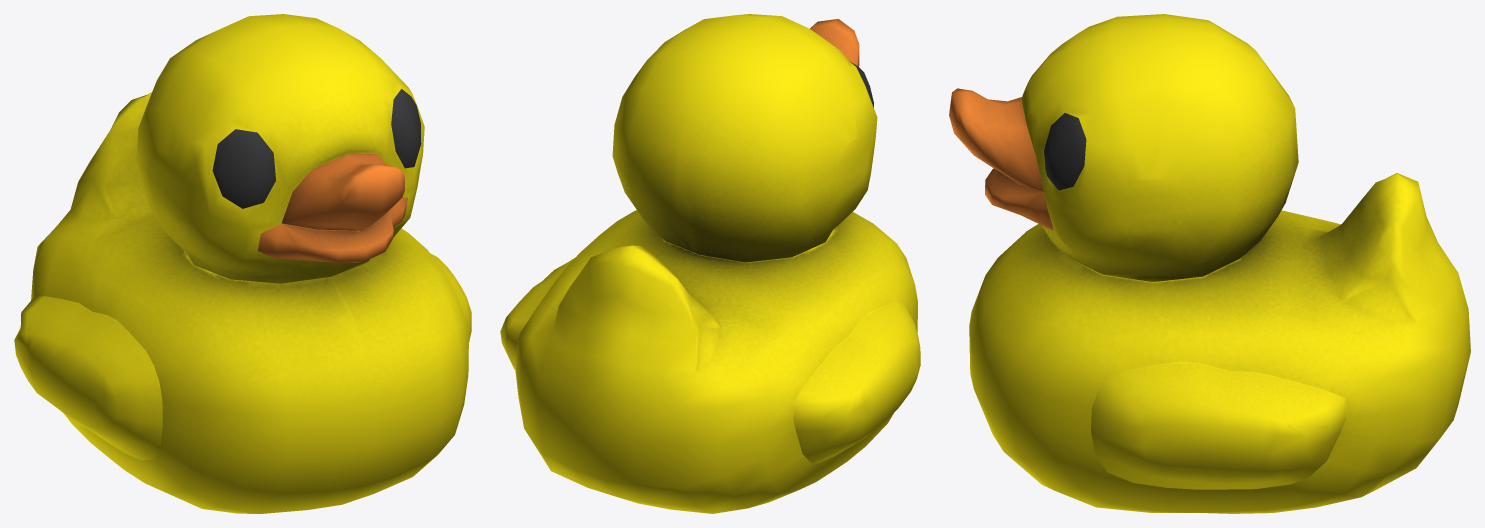
Rendered from DuckRubber.fbx.
The picture shows the model from 3 angles, left to right: view 1: azimuth 30°, elevation 25°; view 2: azimuth 150°, elevation 25°; view 3: azimuth 270°, elevation 25°; orthographic projection. The views are drawn at different scales.
Parts seen in each view (by area): view 1: DuckMesh; view 2: DuckMesh; view 3: DuckMesh.
Part boxes in pixels (x1,y1,x2,y2): DuckMesh: (14, 14, 471, 513); DuckMesh: (500, 14, 920, 513); DuckMesh: (949, 14, 1470, 513).
Size of the model in its own units: 3.86 by 4.29 by 4.52.
1 material, 1 textured.
